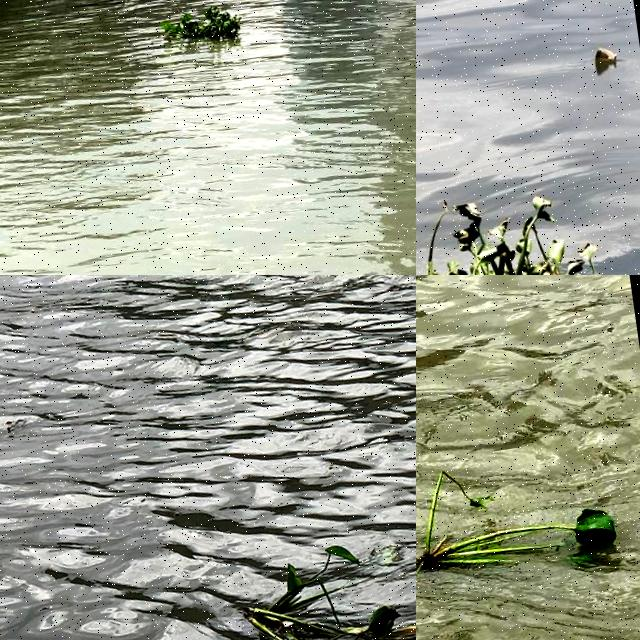water-hyacinth: (417, 452, 627, 586), (230, 526, 417, 640), (417, 186, 623, 276), (162, 1, 250, 50)
